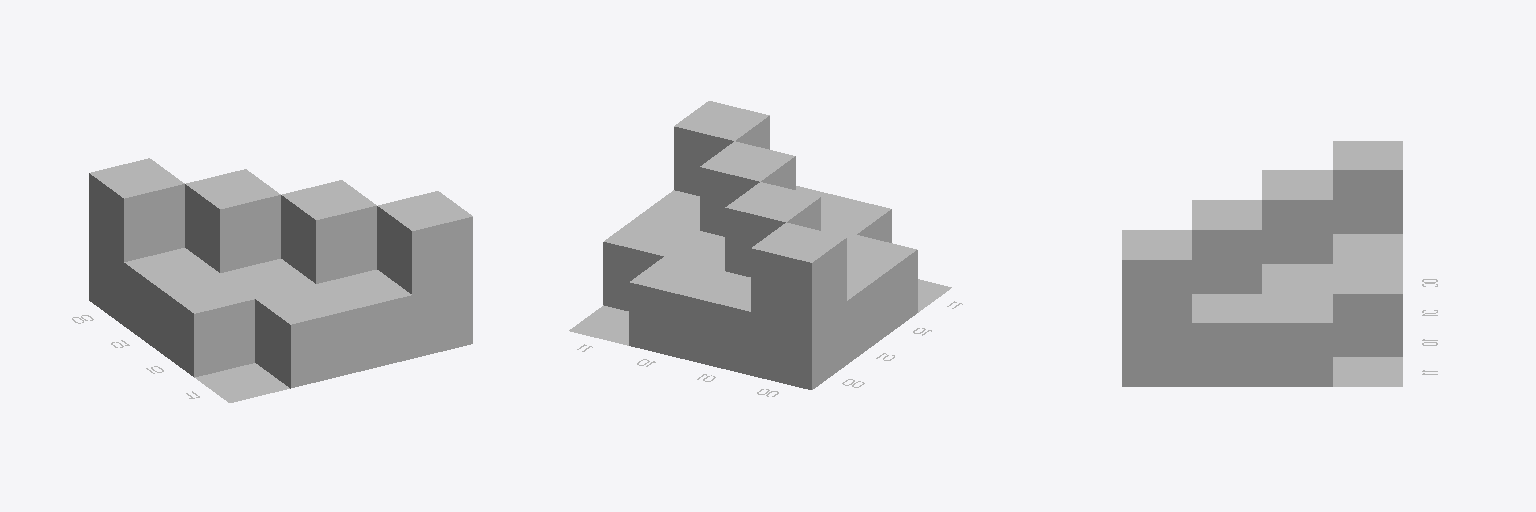
3 views of the same model, side by side, from view 1: azimuth 30°, elevation 25°; view 2: azimuth 150°, elevation 25°; view 3: azimuth 270°, elevation 25° (orthographic).
Visible parts, largest first — view 1: Object(4,4)[length_2], Object(1,1)[length_2], Object(2,2)[length_2], Object(1,3)[length_1], Object(3,3)[length_2], Object(2,4)[length_1], Object(3,4)[length_1], Object(1,2)[length_1], Object(1,4)[length_0], Object(2,3)[length_1]; view 2: Object(1,1)[length_2], Object(3,1)[length_1], Object(2,1)[length_1], Object(2,2)[length_2], Object(4,4)[length_2], Object(3,3)[length_2], Object(4,2)[length_1], Object(1,3)[length_1], Object(1,2)[length_1], Object(2,4)[length_1], Object(4,3)[length_1], Object(4,1)[length_0] (+2 smaller); view 3: Object(4,4)[length_2], Object(2,2)[length_2], Object(4,2)[length_1], Object(3,3)[length_2], Object(1,1)[length_2], Object(3,1)[length_1], Object(4,3)[length_1], Object(3,2)[length_1], Object(2,1)[length_1], Object(4,1)[length_0].
Part boxes in pixels (left/top/right/bottom): Object(4,4)[length_2]: left=377, top=191, right=472, bottom=358; Object(1,1)[length_2]: left=89, top=158, right=184, bottom=325; Object(2,2)[length_2]: left=185, top=169, right=280, bottom=272; Object(1,3)[length_1]: left=159, top=273, right=254, bottom=377; Object(3,3)[length_2]: left=281, top=180, right=376, bottom=283; Object(2,4)[length_1]: left=255, top=284, right=350, bottom=388; Object(3,4)[length_1]: left=317, top=270, right=411, bottom=373; Object(1,2)[length_1]: left=124, top=248, right=218, bottom=350; Object(1,4)[length_0]: left=195, top=363, right=289, bottom=402; Object(2,3)[length_1]: left=220, top=259, right=314, bottom=298; Object(1,1)[length_2]: left=751, top=222, right=846, bottom=389; Object(3,1)[length_1]: left=629, top=256, right=724, bottom=360; Object(2,1)[length_1]: left=690, top=271, right=750, bottom=375; Object(2,2)[length_2]: left=725, top=182, right=820, bottom=276; Object(4,4)[length_2]: left=674, top=101, right=769, bottom=195; Object(3,3)[length_2]: left=700, top=141, right=795, bottom=236; Object(4,2)[length_1]: left=603, top=216, right=698, bottom=310; Object(1,3)[length_1]: left=847, top=235, right=917, bottom=338; Object(1,2)[length_1]: left=847, top=267, right=881, bottom=364; Object(2,4)[length_1]: left=821, top=194, right=891, bottom=242; Object(4,3)[length_1]: left=639, top=190, right=699, bottom=230; Object(4,1)[length_0]: left=569, top=305, right=628, bottom=345; Object(4,4)[length_2]: left=1122, top=230, right=1191, bottom=386; Object(2,2)[length_2]: left=1262, top=170, right=1332, bottom=263; Object(4,2)[length_1]: left=1262, top=294, right=1332, bottom=386; Object(3,3)[length_2]: left=1192, top=200, right=1261, bottom=293; Object(1,1)[length_2]: left=1333, top=141, right=1402, bottom=233; Object(3,1)[length_1]: left=1333, top=264, right=1402, bottom=356; Object(4,3)[length_1]: left=1192, top=294, right=1261, bottom=386; Object(3,2)[length_1]: left=1262, top=264, right=1332, bottom=293; Object(2,1)[length_1]: left=1333, top=234, right=1402, bottom=263; Object(4,1)[length_0]: left=1333, top=357, right=1402, bottom=386.
Bounding box in the file's own units: 4.54 × 2 × 4.5.